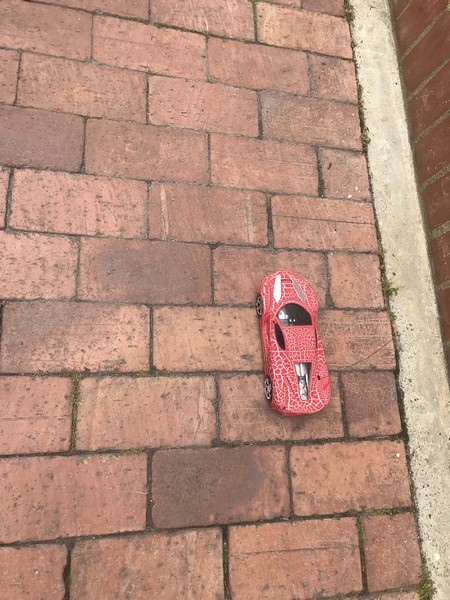RC: (256, 269, 333, 417)
